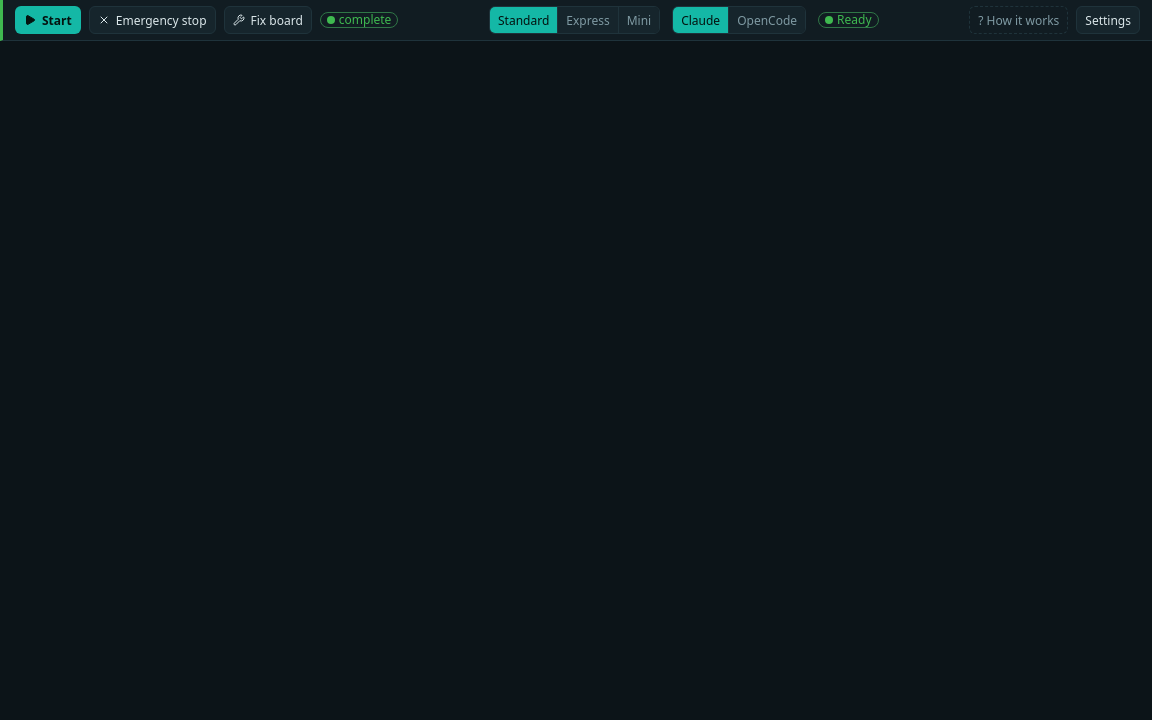
Test case: the loop’s own state, as one chip › gives a finished run no instruction, because there is nothing to do
Click the button with test id "ap-chip": {"x": 359, "y": 20} [320, 12, 398, 28]
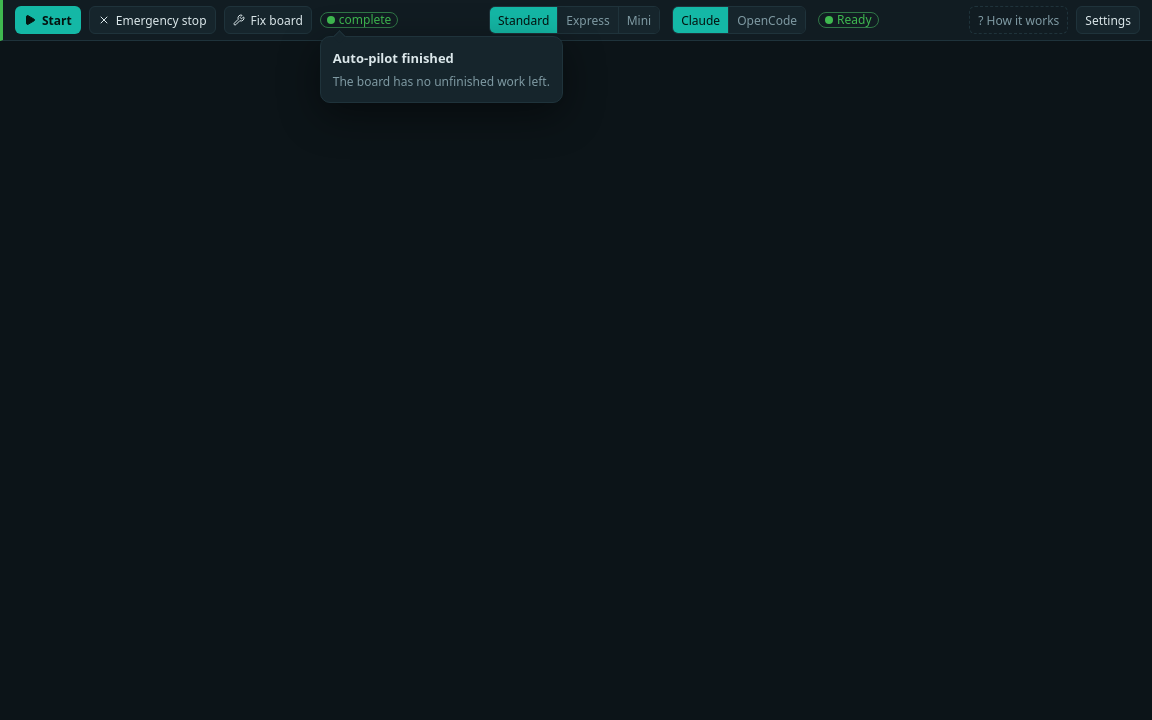
Expected: the text "Auto-pilot finished" is shown, [333, 49, 454, 67]
